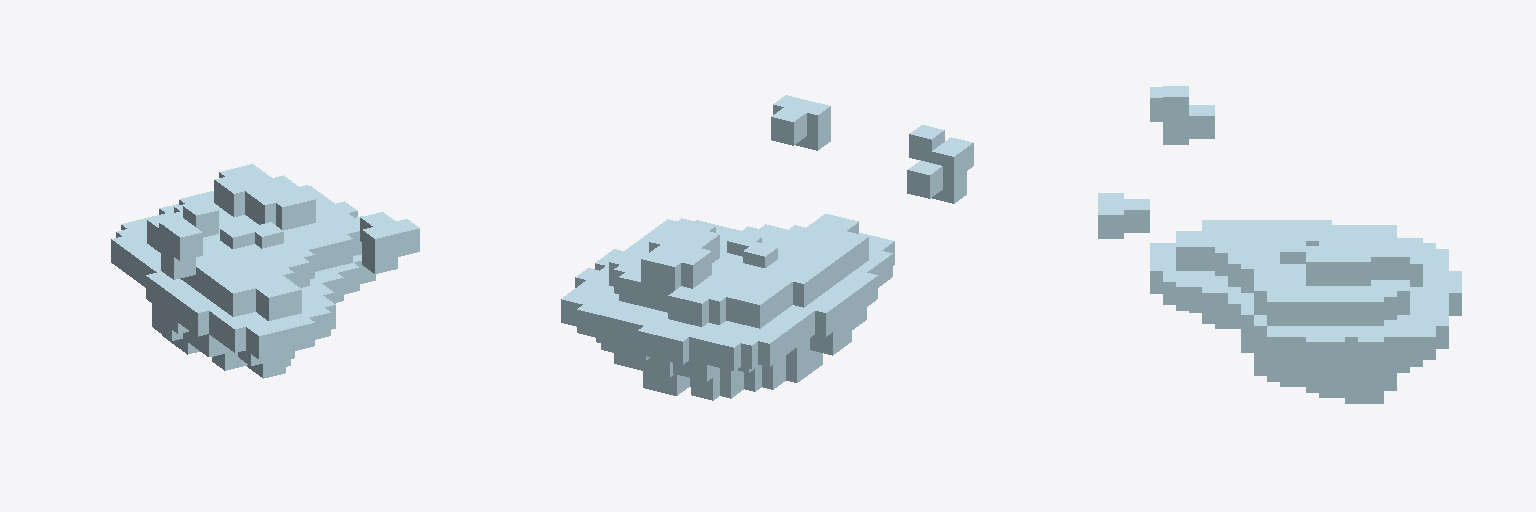
3 views of the same model, side by side, from view 1: azimuth 30°, elevation 25°; view 2: azimuth 150°, elevation 25°; view 3: azimuth 270°, elevation 25° (orthographic).
Bounding box in the file's own units: 25 × 19 × 28.
Materials: 1 (1 with a texture image).